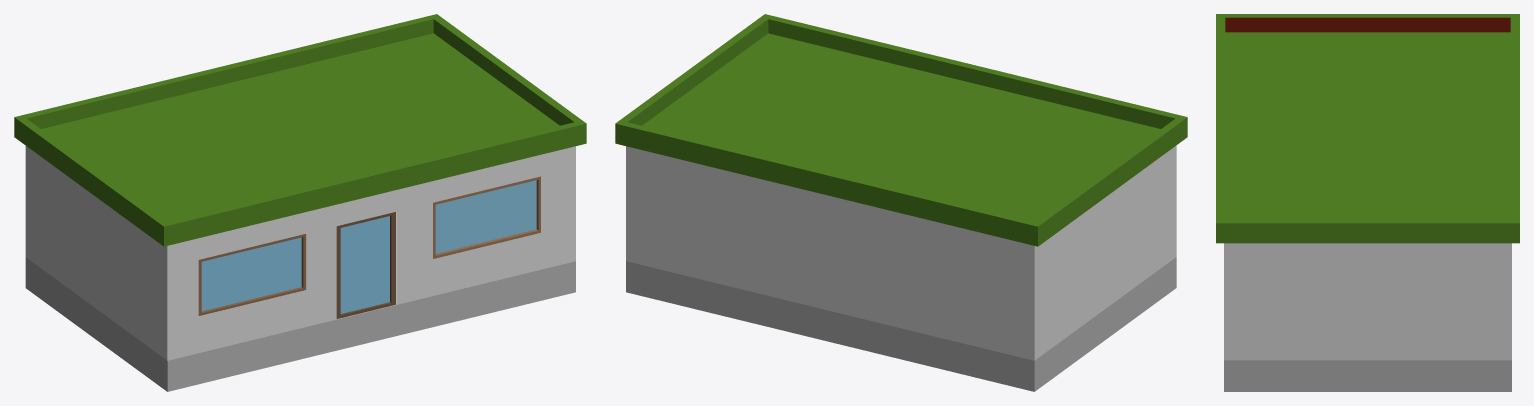
File: building_4.fbx
3 views of the same model, side by side, from view 1: azimuth 30°, elevation 25°; view 2: azimuth 150°, elevation 25°; view 3: azimuth 270°, elevation 25° (orthographic).
Parts seen in each view (by area): view 1: Cube; view 2: Cube; view 3: Cube.
Boxes of the visible parts, x1,y1,x2,y2 form: Cube: (14,14,586,391); Cube: (615,14,1187,391); Cube: (1216,14,1519,391).
Bounding box in the file's own units: 892 × 342 × 547.
1 material, 1 textured.
